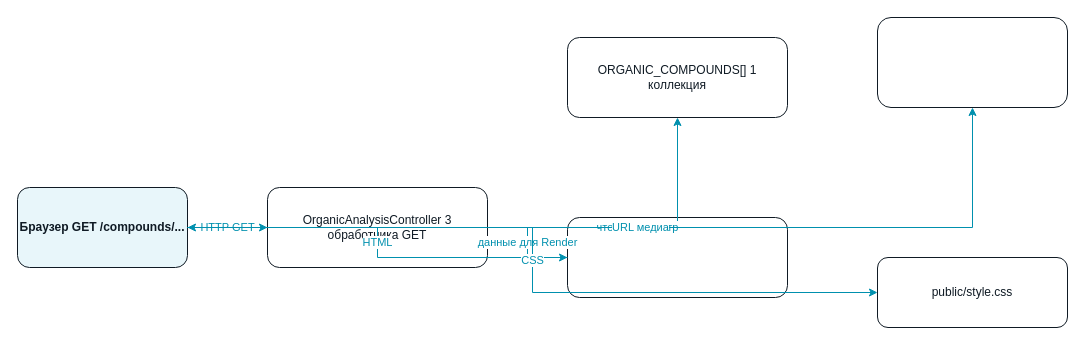
Some shapes in this 1085 by 345 pixel diagram are drawn without their labels. The box of each missing label's shape, as (x1, y1, x2, y2) in pixels:
Handlebars feed / draft / grid: (566, 216, 788, 298)
MinIO organic-media PNG + MP4: (876, 16, 1068, 108)
